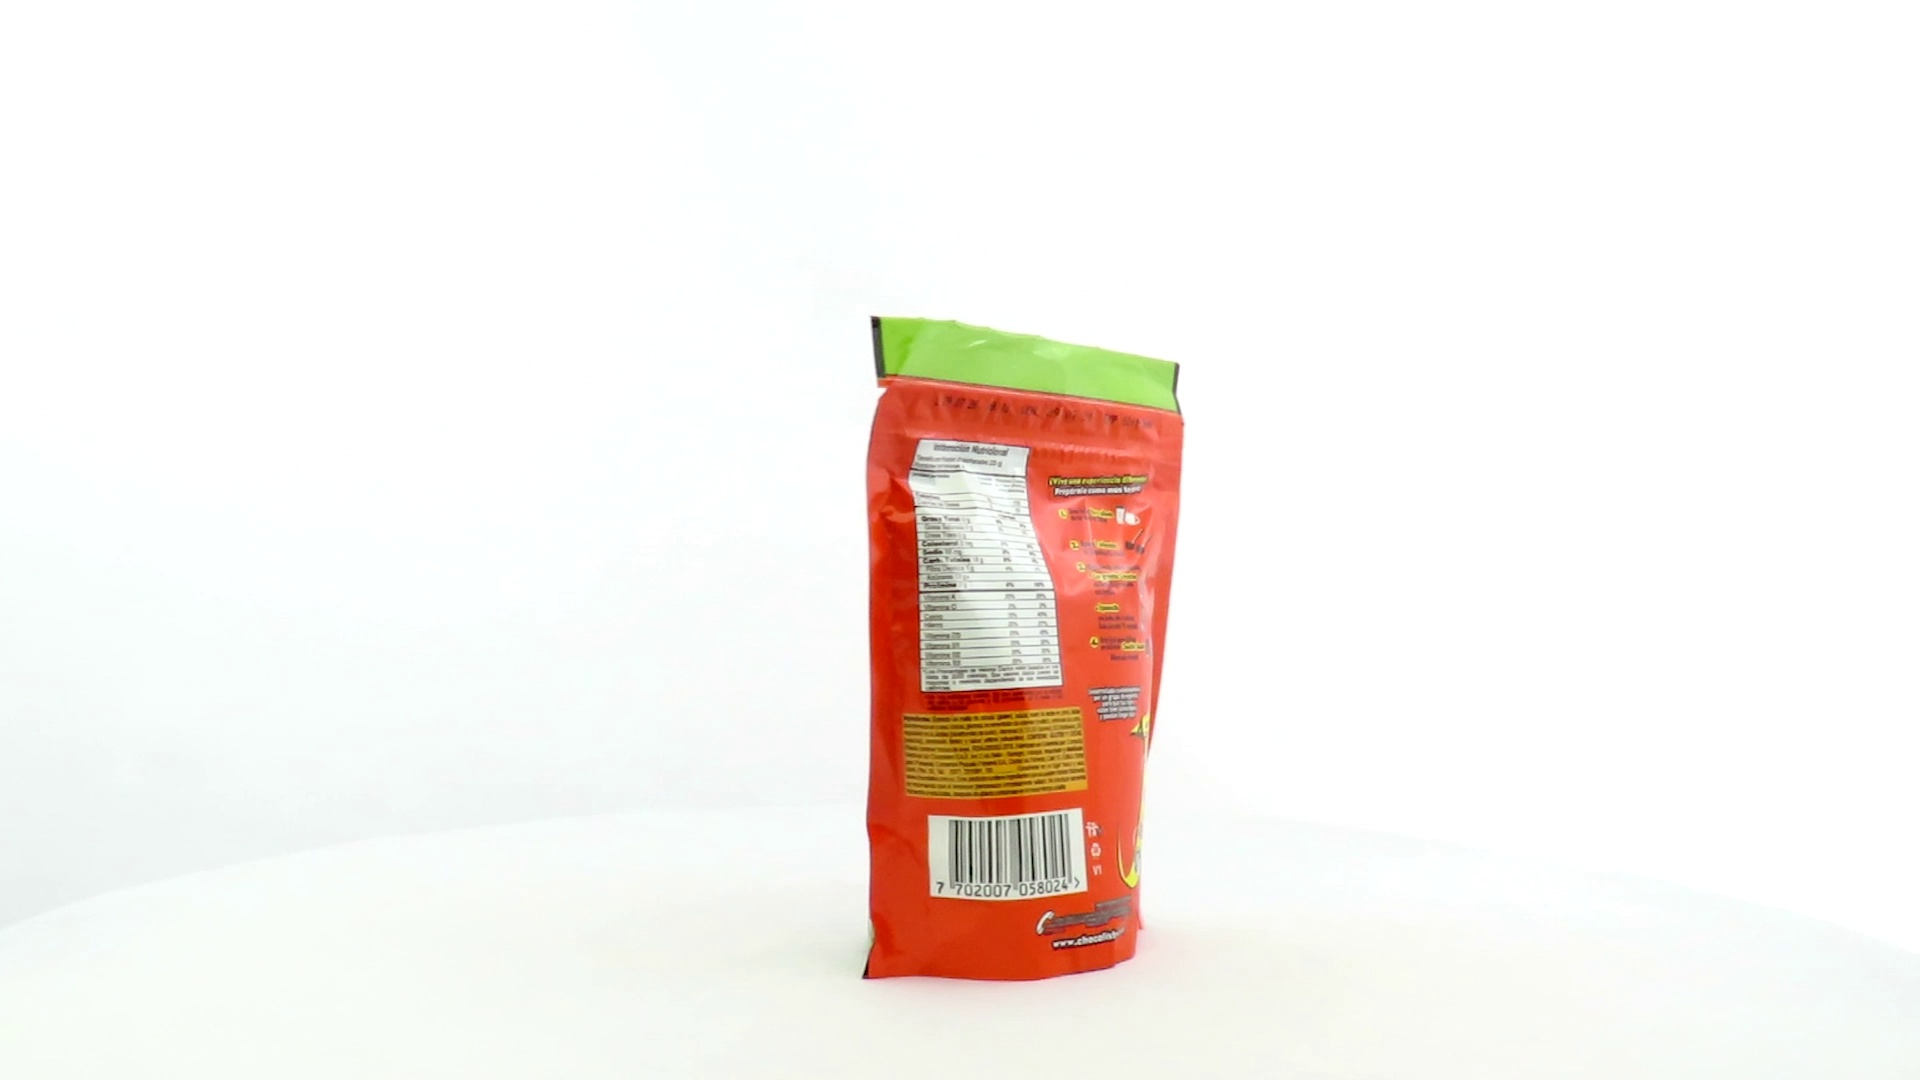COL0170102DYP10000: (857, 311, 1189, 988)
